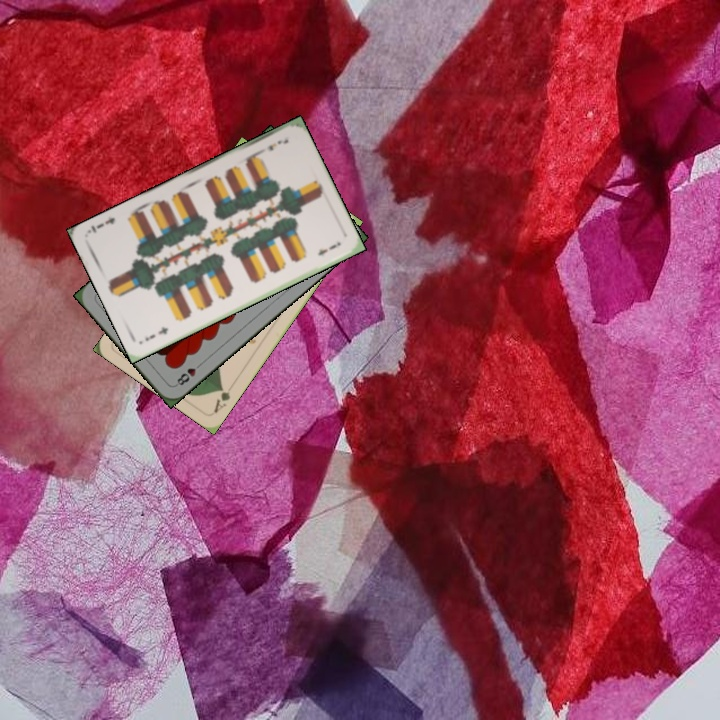E7: (255, 135, 291, 156), (141, 323, 171, 344)
GA: (209, 383, 233, 416)
H8: (171, 358, 205, 389)
